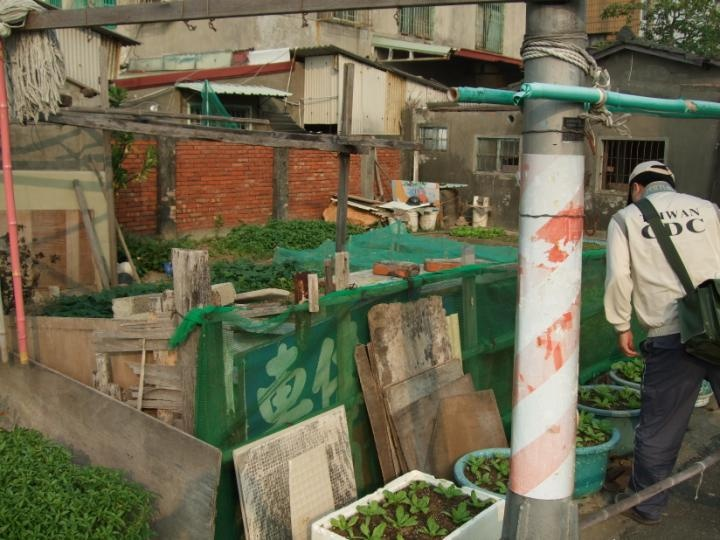bucket: (419, 202, 442, 232), (402, 209, 420, 233)
